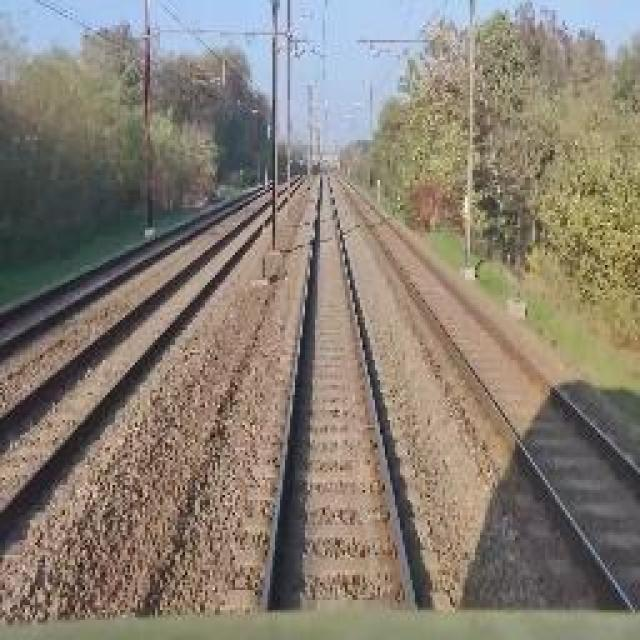rail: (331, 176, 640, 611), (0, 169, 311, 579), (214, 167, 454, 621)
